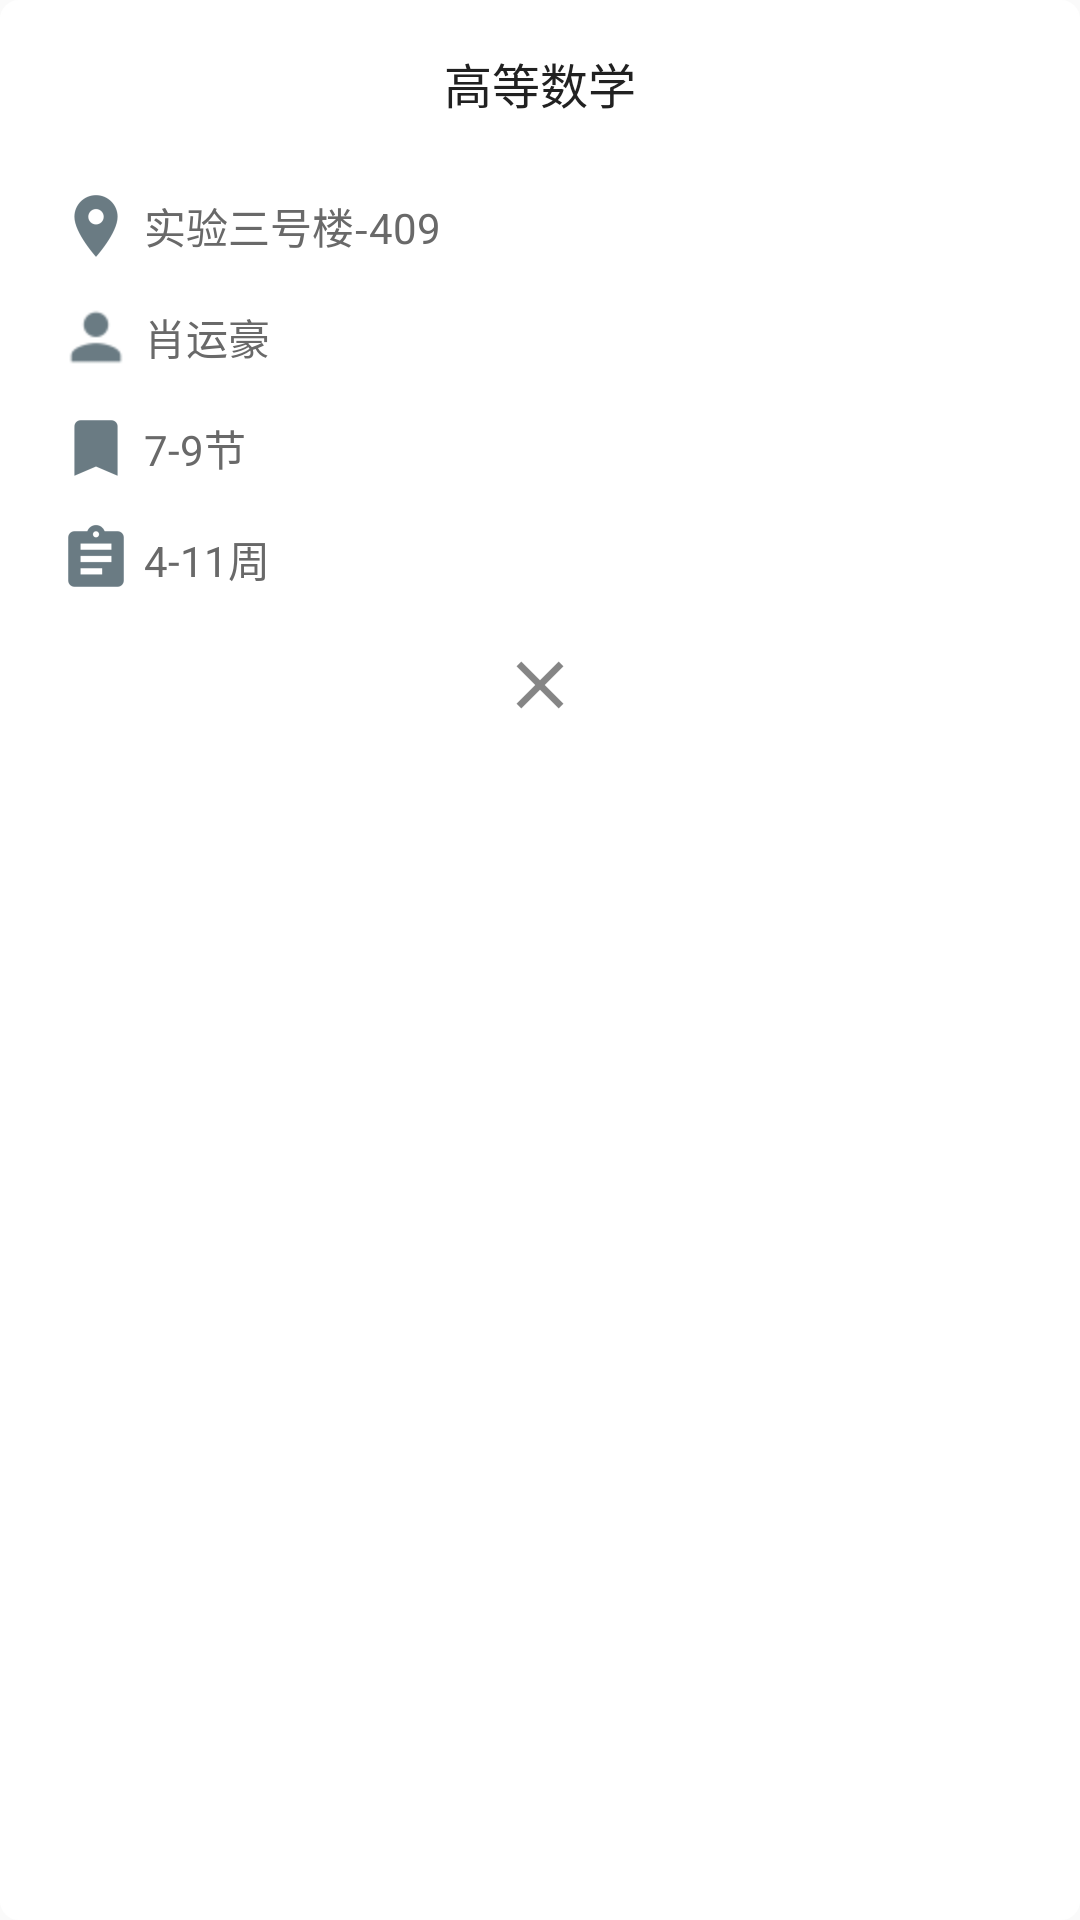

Point at icon controls on the screen. Image size 1080px x 1920px, points as (x=x, y=y).
close: (x=540, y=685)
